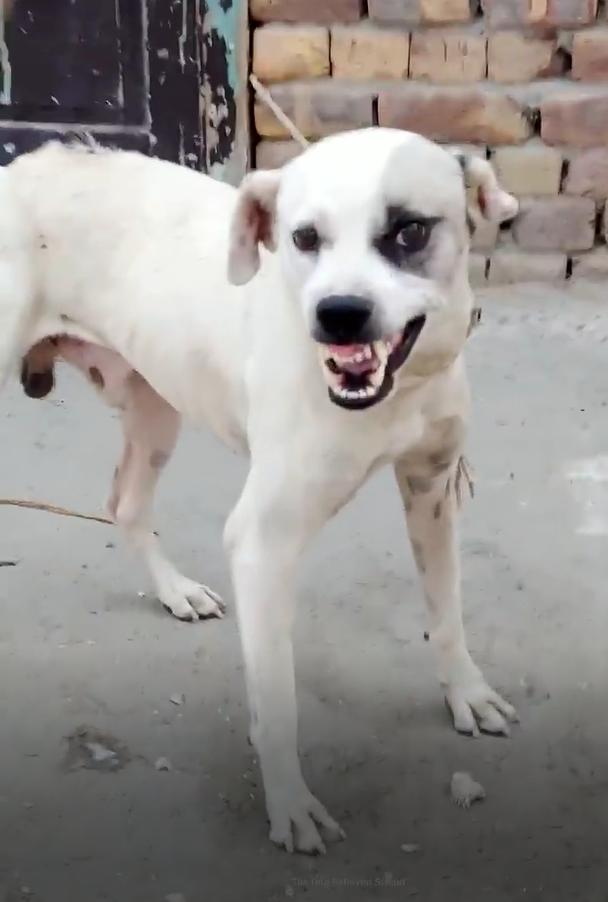dog_aggressive: (3, 17, 578, 866)
